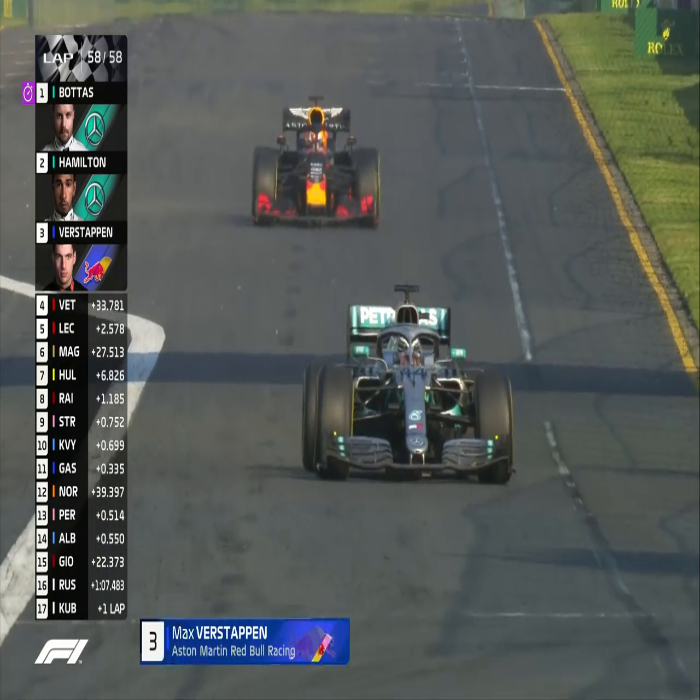f1_car: (295, 277, 538, 513), (238, 92, 395, 238)
